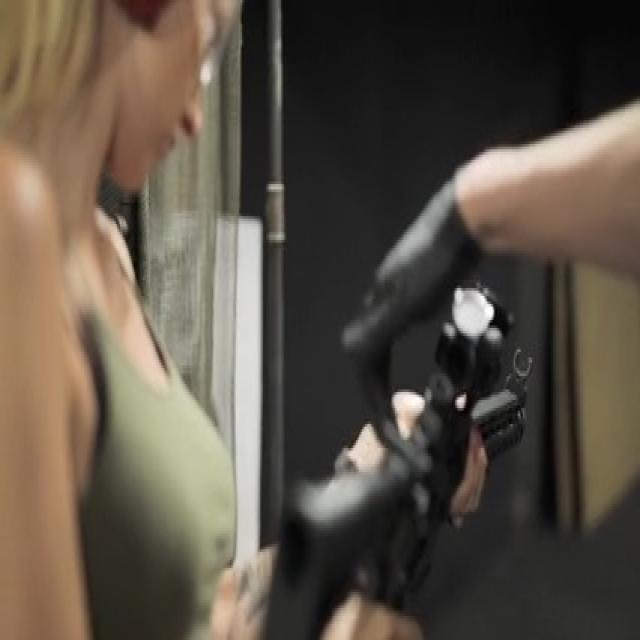Gun_Holder: (212, 235, 610, 640)
Person: (2, 0, 428, 640)
